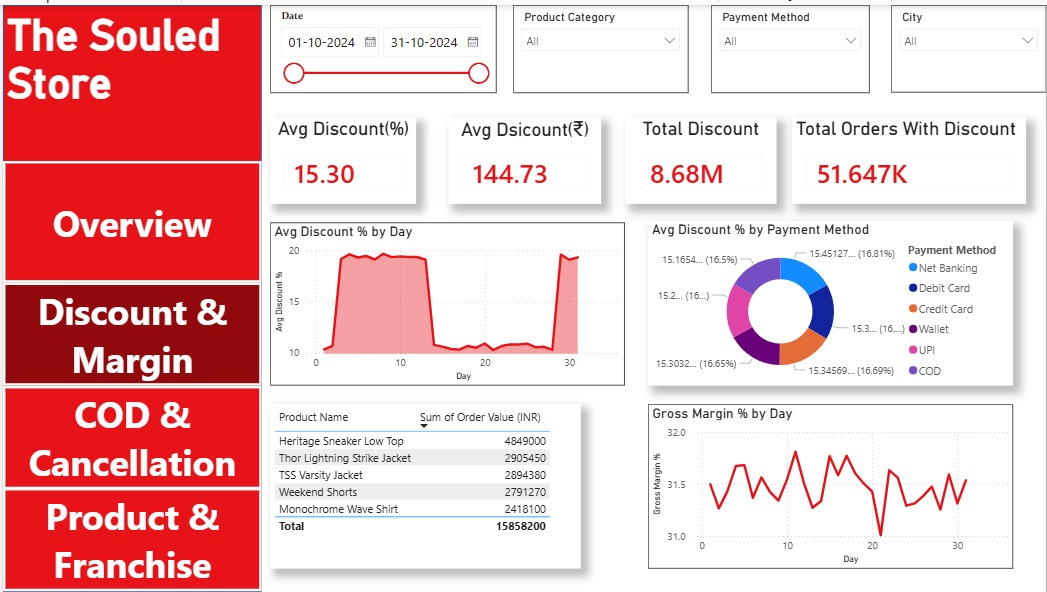

What the dashboard file says about the page in this screenshot:
{"tool":"powerbi","page":{"name":"Discount & Margin","canvas":[1280,720],"ordinal":1},"visuals":[{"type":"group","id":"g1","title":"Group 1","box":[0,0,317.5,720],"z":0},{"type":"shape","box":[0,0,317.5,720],"z":0,"group":"g1"},{"type":"slicer","fields":{"Values":["SOULED_STORE.Date"]},"box":[326.9,0,277.8,107.7],"z":1000},{"type":"actionButton","box":[0,593.4,317.5,126.6],"z":1000,"group":"g1"},{"type":"slicer","fields":{"Values":["SOULED_STORE.Product Category"]},"box":[625.5,0,215.4,107.7],"z":2000},{"type":"actionButton","box":[0,466.8,317.5,126.6],"z":2000,"group":"g1"},{"type":"slicer","fields":{"Values":["SOULED_STORE.Payment Method"]},"box":[869.3,0,194.6,107.7],"z":3000},{"type":"actionButton","box":[0,340.2,317.5,126.6],"z":3000,"group":"g1"},{"type":"slicer","fields":{"Values":["SOULED_STORE.City"]},"box":[1088.9,0,190.7,107.4],"z":4000},{"type":"actionButton","box":[0,190.9,317.5,149.3],"z":4000,"group":"g1"},{"type":"textbox","box":[0,0,317.5,213.5],"z":5000,"group":"g1"},{"type":"cardVisual","title":"Avg Discount(%)","fields":{"Data":["SOULED_STORE.Avg Discount %"]},"box":[326.9,138,179.5,105.8],"z":5000},{"type":"cardVisual","title":"Avg Dsicount(₹)","fields":{"Data":["SOULED_STORE.Avg Discount per Order"]},"box":[546.1,138,187.1,105.8],"z":6000},{"type":"cardVisual","title":"Total Discount","fields":{"Data":["SOULED_STORE.Total Discount"]},"box":[763.5,138,185.2,105.8],"z":7000},{"type":"cardVisual","title":"Total Orders With Discount","fields":{"Data":["SOULED_STORE.Orders with Discount"]},"box":[967.6,138,287.2,105.8],"z":8000},{"type":"areaChart","fields":{"Category":["SOULED_STORE.Date.Variation.Date Hierarchy.Day"],"Y":["SOULED_STORE.Avg Discount %"]},"box":[327.8,266.7,435.2,200],"z":9000},{"type":"tableEx","fields":{"Values":["SOULED_STORE.Product Name","Sum(SOULED_STORE.Order Value (INR))"]},"box":[327.8,488.9,381.5,201.9],"z":10000},{"type":"donutChart","fields":{"Category":["SOULED_STORE.Payment Method"],"Y":["SOULED_STORE.Avg Discount %"]},"box":[790.7,264.8,448.1,201.9],"z":11000},{"type":"lineChart","fields":{"Category":["SOULED_STORE.Date.Variation.Date Hierarchy.Day"],"Y":["SOULED_STORE.Gross Margin %"]},"box":[791,489,448,202],"z":12000}]}

Visuals, with their boxes in screenshot pixels (x1, y1, x2, y2), scaled from the page's 1280x720 canvas onto the 1047x592 screenshot:
"Group 1" group: bbox=[0, 0, 260, 591]
shape: bbox=[0, 0, 260, 591]
slicer - SOULED_STORE.Date: bbox=[267, 0, 495, 89]
actionButton: bbox=[0, 488, 260, 591]
slicer - SOULED_STORE.Product Category: bbox=[512, 0, 688, 89]
actionButton: bbox=[0, 384, 260, 488]
slicer - SOULED_STORE.Payment Method: bbox=[711, 0, 870, 89]
actionButton: bbox=[0, 280, 260, 384]
slicer - SOULED_STORE.City: bbox=[891, 0, 1046, 88]
actionButton: bbox=[0, 157, 260, 280]
textbox: bbox=[0, 0, 260, 176]
"Avg Discount(%)" cardVisual: bbox=[267, 113, 414, 200]
"Avg Dsicount(₹)" cardVisual: bbox=[447, 113, 600, 200]
"Total Discount" cardVisual: bbox=[625, 113, 776, 200]
"Total Orders With Discount" cardVisual: bbox=[791, 113, 1026, 200]
areaChart - SOULED_STORE.Date.Variation.Date Hierarchy.Day x SOULED_STORE.Avg Discount %: bbox=[268, 219, 624, 384]
tableEx - SOULED_STORE.Product Name x Sum(SOULED_STORE.Order Value (INR)): bbox=[268, 402, 580, 568]
donutChart - SOULED_STORE.Payment Method x SOULED_STORE.Avg Discount %: bbox=[647, 218, 1013, 384]
lineChart - SOULED_STORE.Date.Variation.Date Hierarchy.Day x SOULED_STORE.Gross Margin %: bbox=[647, 402, 1013, 568]
